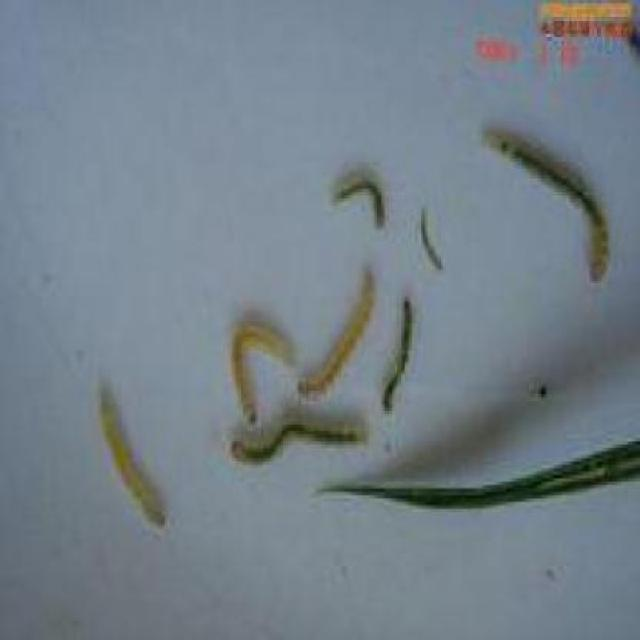leaf-folder: (476, 98, 612, 310), (73, 373, 182, 530), (293, 266, 384, 402), (220, 294, 302, 420), (214, 410, 372, 472), (375, 290, 423, 419), (338, 160, 390, 242), (416, 188, 449, 282)
